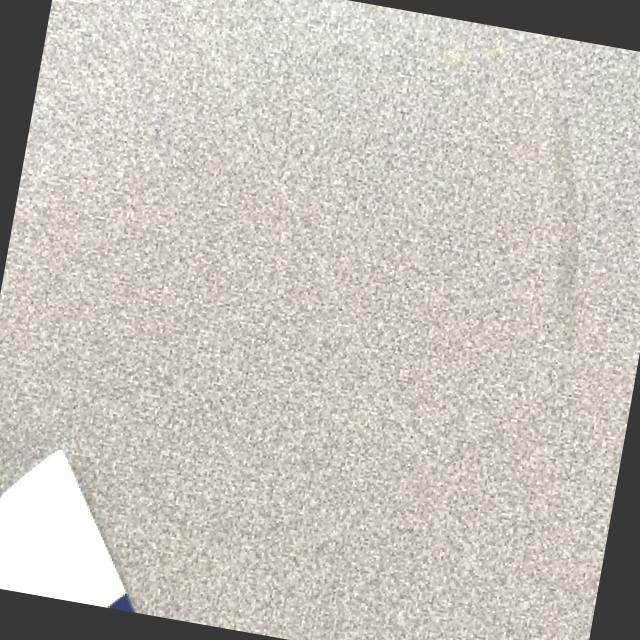healthy: (0, 447, 130, 609)
